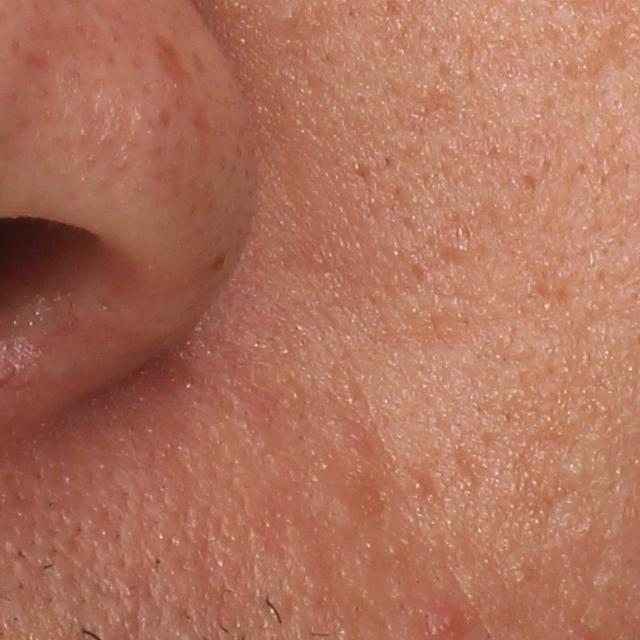melasma: (153, 32, 194, 85)
nevus: (210, 252, 227, 270)
